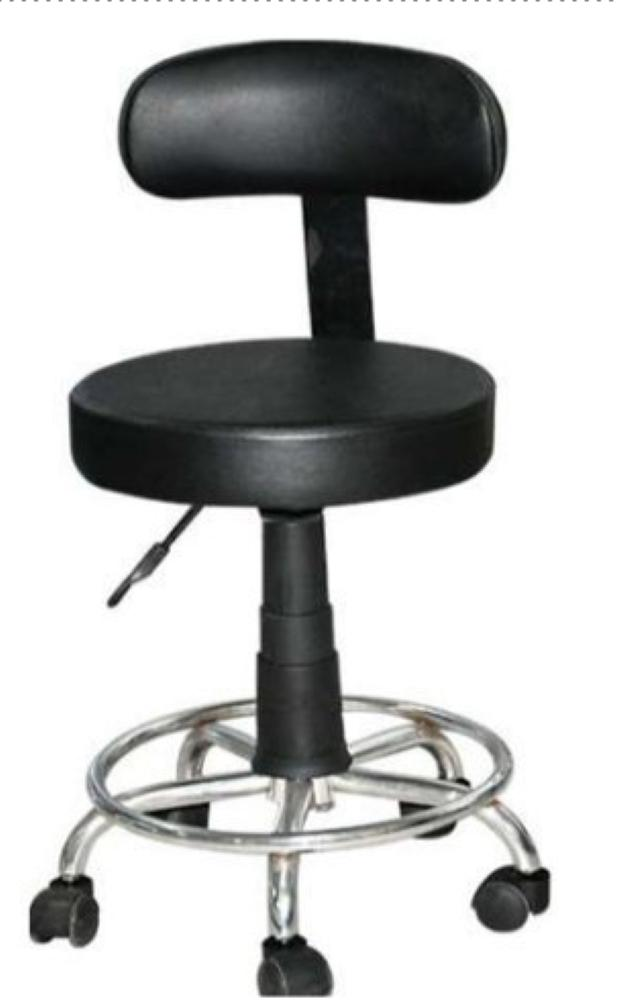chair: (28, 37, 552, 995)
